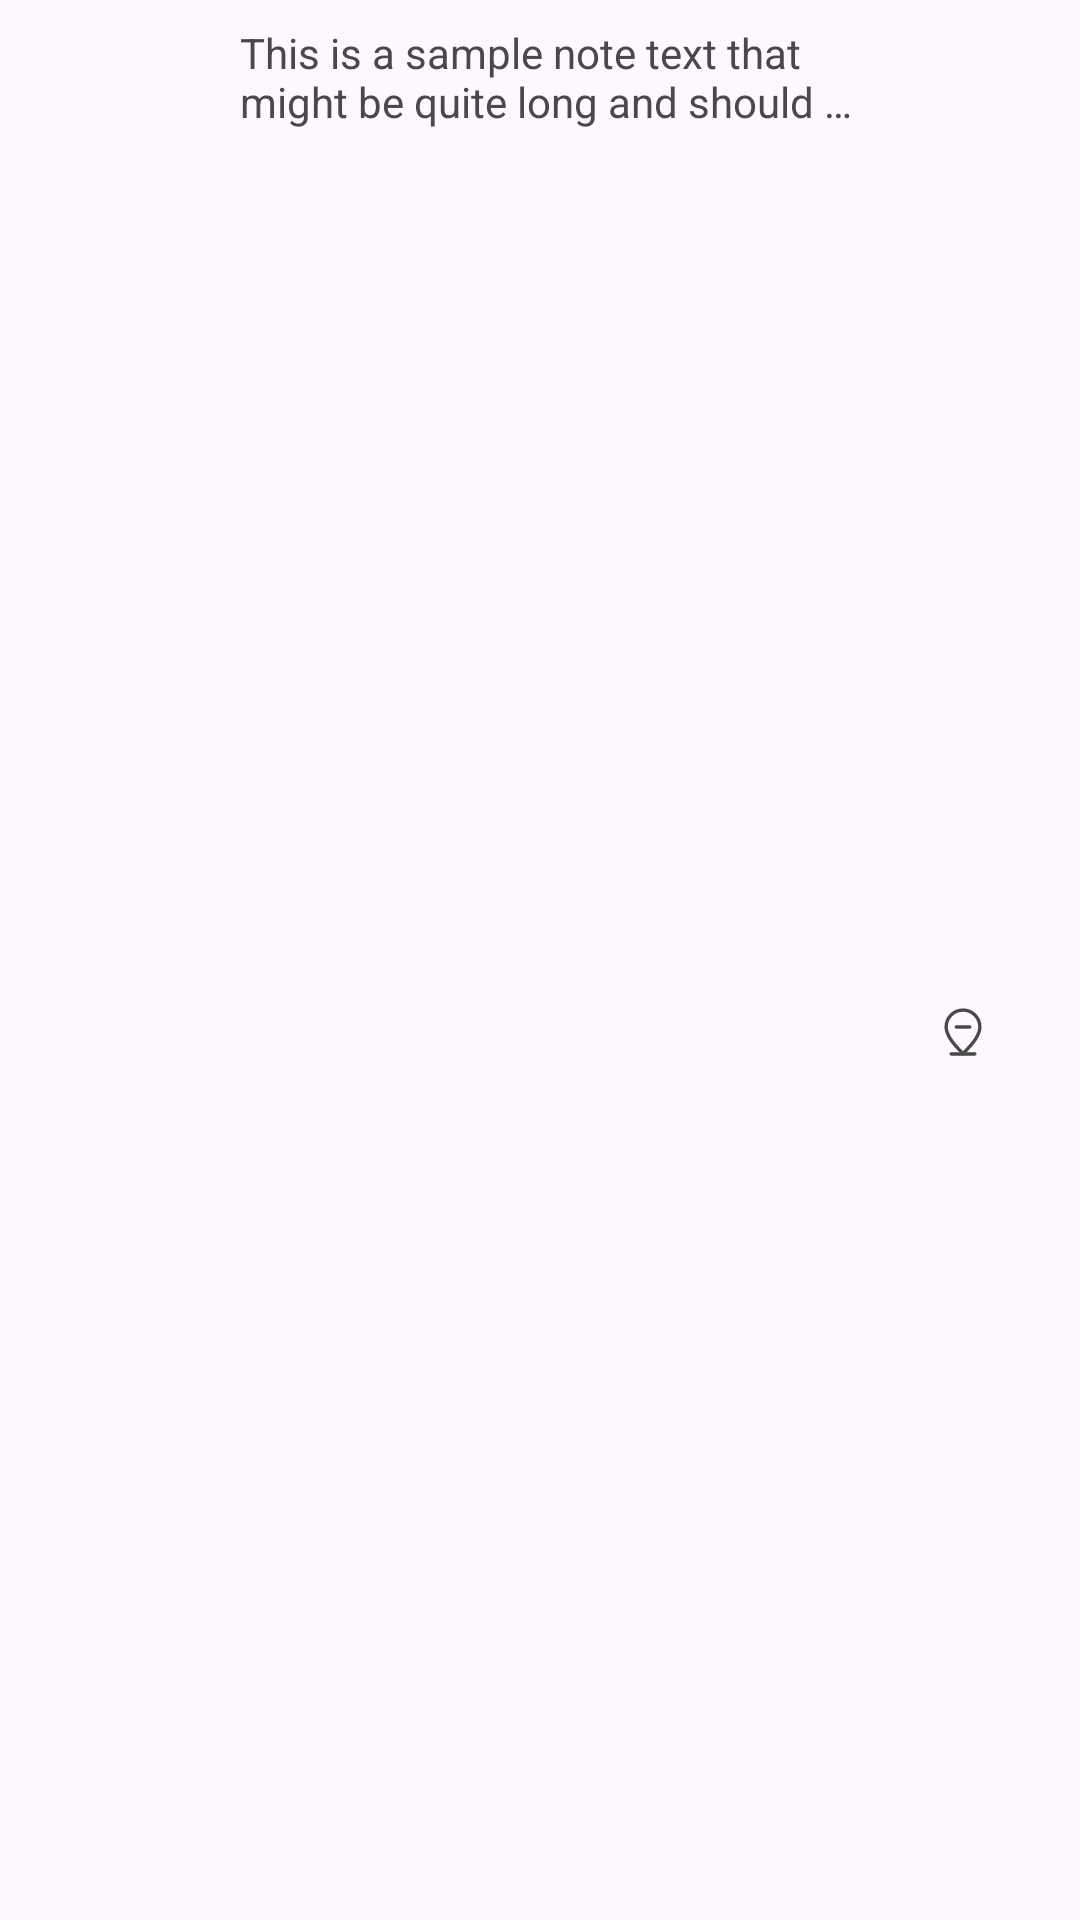

Screen size 1080w x 1920h. Icon name, then its center in pixels as (x=x, y=y):
delete location: (x=963, y=1032)
